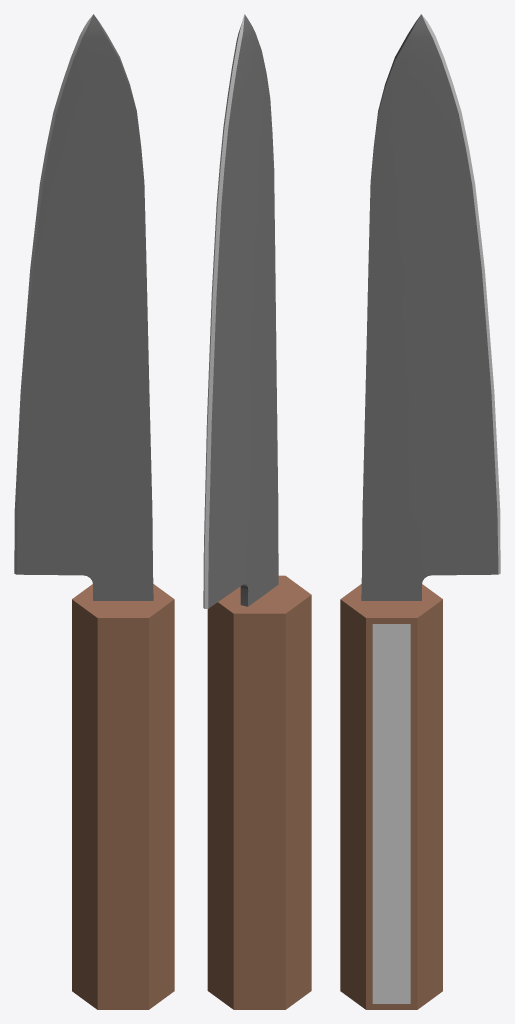
The model's file is cuchillo2.fbx.
The picture shows the model from 3 angles, left to right: view 1: azimuth 90°, elevation 25°; view 2: azimuth 150°, elevation 25°; view 3: azimuth 270°, elevation 25°; orthographic projection.
Visible parts, largest first — view 1: cuchillo2; view 2: cuchillo2; view 3: cuchillo2.
Boxes of the visible parts, x1,y1,x2,y2 form: cuchillo2: (14,14,174,1009); cuchillo2: (203,14,311,1009); cuchillo2: (340,14,500,1009).
Size of the model in its own units: 10.01 by 121 by 18.02.
